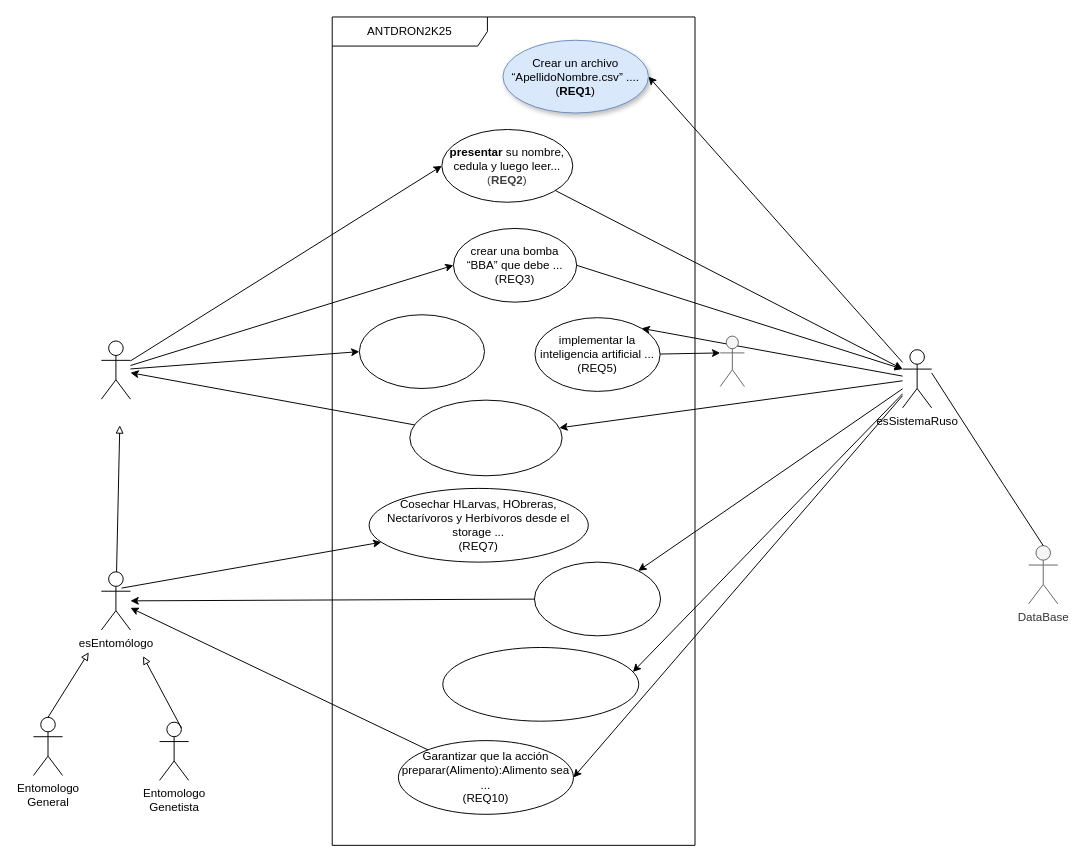
The diagram is 1085 pixels wide and 862 high, and some of its shapes have lost their labels. The centre of each missing label's shape, as x and y in pixels:
crear un tipo de hormiga que derive de ... (REQ4): the point at 421,351
Diseñar una propiedad a HObrera para la superHabilidad ... (REQ9): the point at 540,684
esAntCiberDron: the point at 731,361
esKGD: the point at 115,369
Implementar IEntomólogo y alimentar sus hormigas ... (REQ8): the point at 597,598
Solicitar autenticación (usuario y contraseña; agregar ... (REQ6): the point at 485,437
